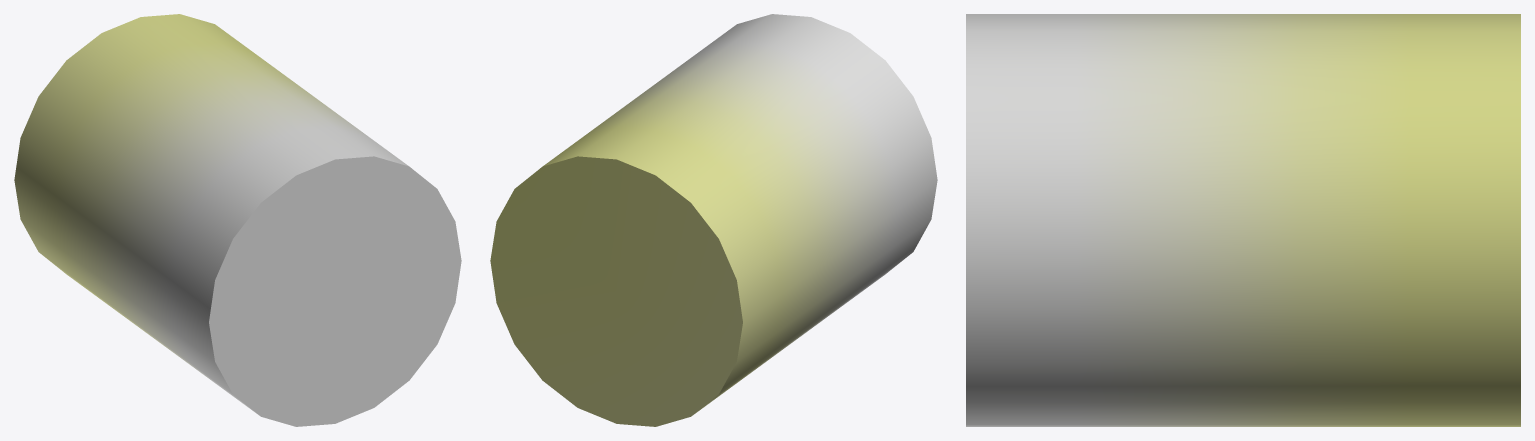
3 views of the same model, side by side, from view 1: azimuth 30°, elevation 25°; view 2: azimuth 150°, elevation 25°; view 3: azimuth 270°, elevation 25° (orthographic). The views are drawn at different scales.
Visible parts, largest first — view 1: Cylinder01; view 2: Cylinder01; view 3: Cylinder01.
Part boxes in pixels (x1,y1,x2,y2): Cylinder01: (14, 14, 461, 426); Cylinder01: (490, 14, 937, 426); Cylinder01: (966, 14, 1520, 426).
Size of the model in its own units: 1.5 by 1.5 by 2.
